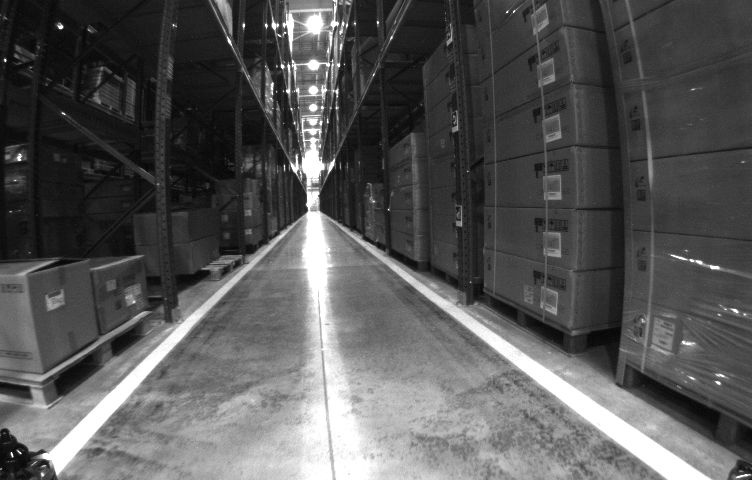True Barcode: (653, 318, 675, 349)
